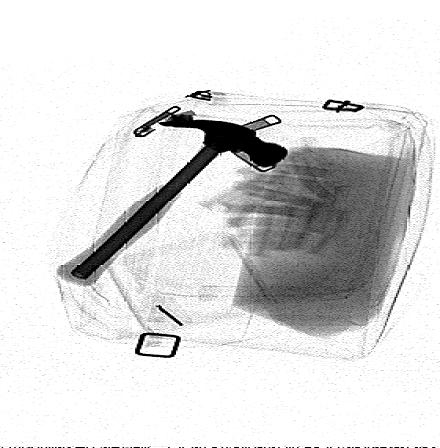Hammer: (55, 119, 290, 287)
